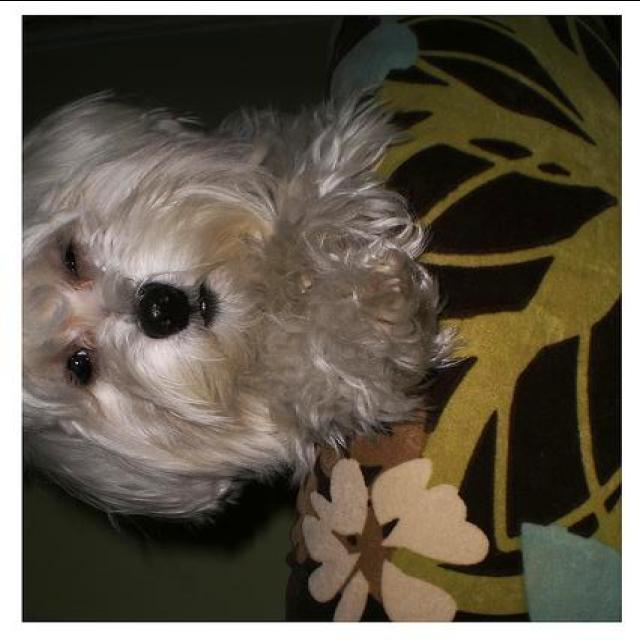maltese_dog: (18, 92, 443, 524)
